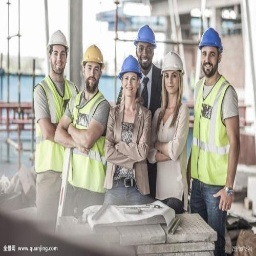helmet: (135, 25, 157, 46), (199, 29, 224, 46), (83, 45, 104, 64), (47, 30, 69, 47), (120, 55, 141, 72), (162, 53, 183, 69)
no-vest: (112, 102, 147, 191), (156, 103, 186, 194)
person: (194, 28, 239, 230), (31, 25, 71, 216), (109, 55, 152, 204), (72, 41, 109, 208), (150, 54, 190, 201)
vest: (63, 96, 105, 191), (195, 83, 230, 185), (37, 79, 74, 171)
